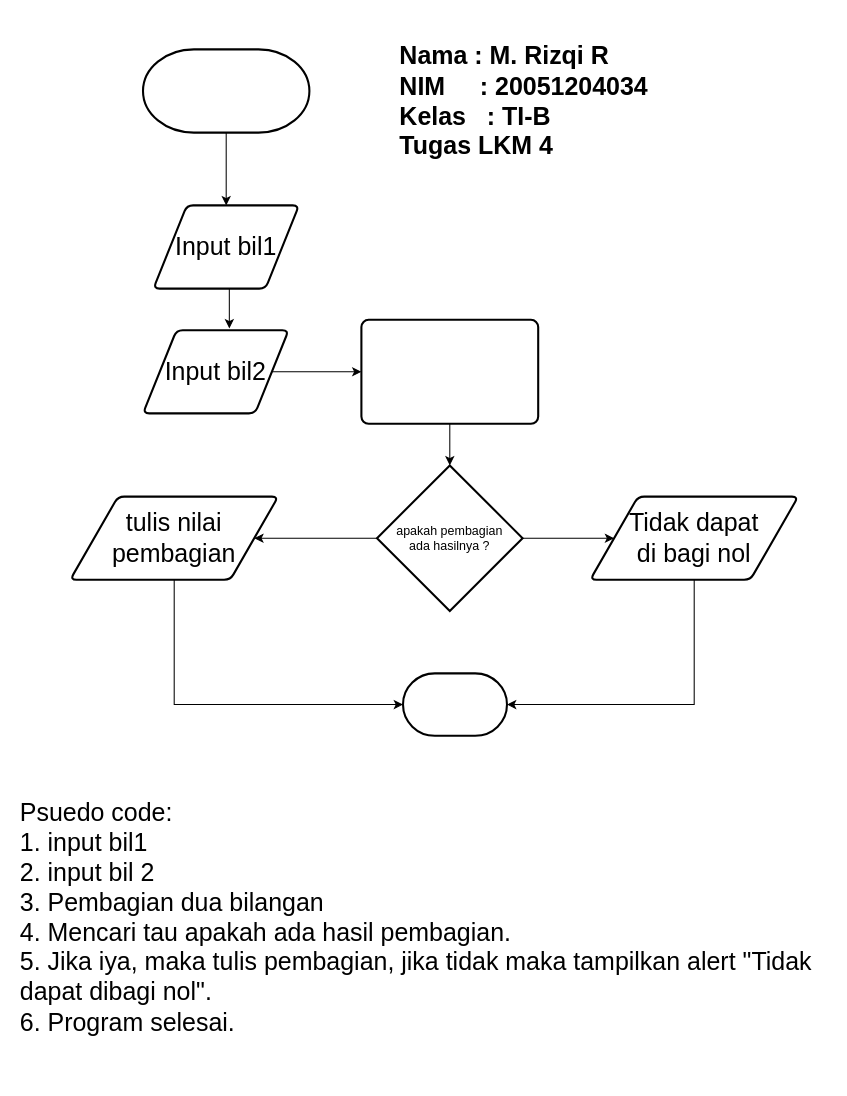
The diagram is 847 pixels wide and 1096 high, and some of its shapes have lost their labels. The centre of each missing label's shape, as x and y in pixels:
End: (x=454, y=704)
pembagian = bil1/bil2: (x=449, y=371)
Start: (x=225, y=90)
